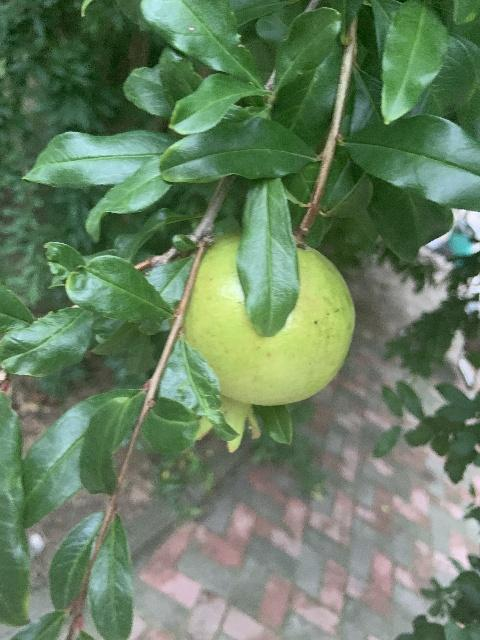mid-growth: (181, 235, 356, 452)
